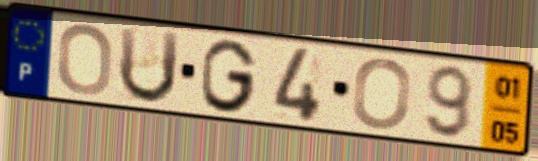4: (271, 44, 324, 124)
9: (423, 63, 477, 141)
G: (199, 37, 261, 115)
O: (349, 56, 415, 132), (55, 21, 116, 98)
U: (115, 24, 183, 107)
